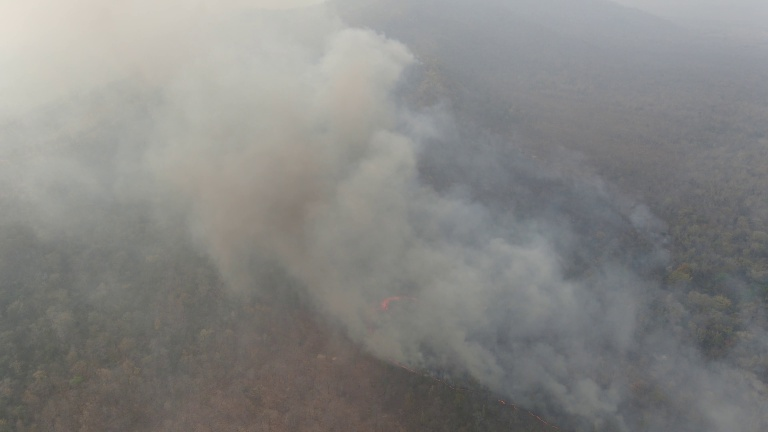fire: (495, 397, 571, 430), (387, 356, 439, 379), (376, 294, 409, 313)
smoke: (146, 17, 482, 358), (328, 156, 641, 410)
